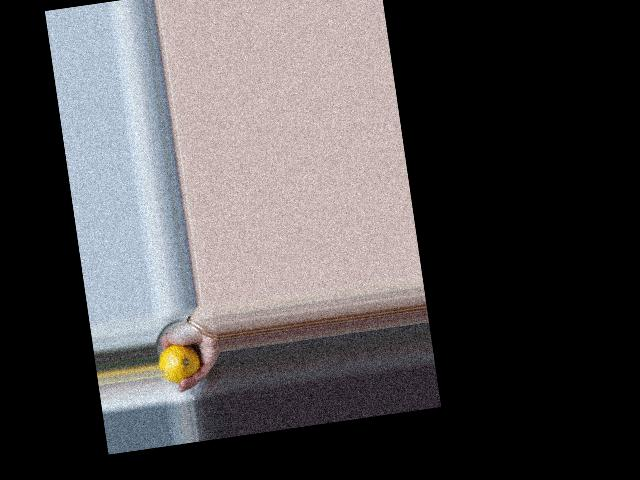lemon: (158, 343, 203, 385)
